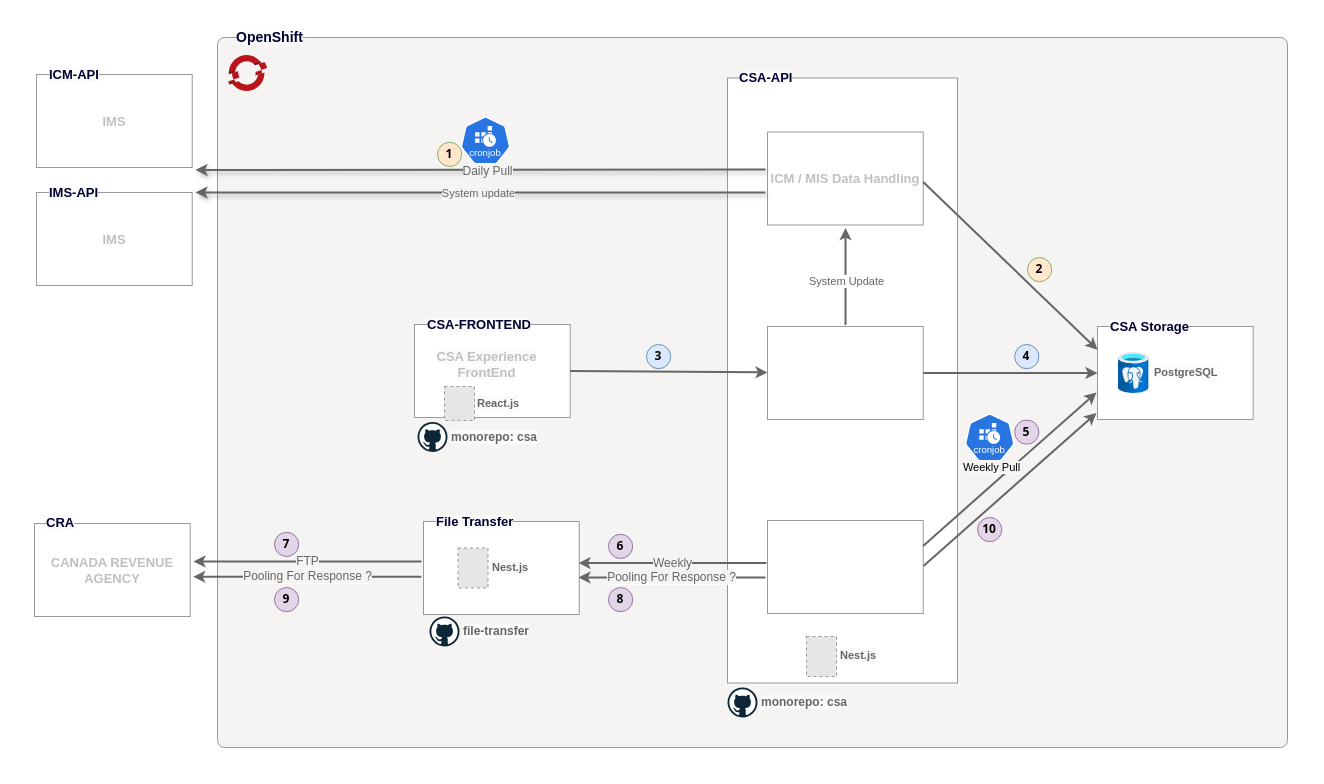
Some shapes in this 1324 by 784 pixel diagram are drawn without their labels. Grey dashed boxes stand in for pictures. The shapes that lost their labels are listed below. From the top down, each one's centre as x and y in pixels, then its label:
(844,373): BACKEND API
(844,567): CRA Batch Handling
